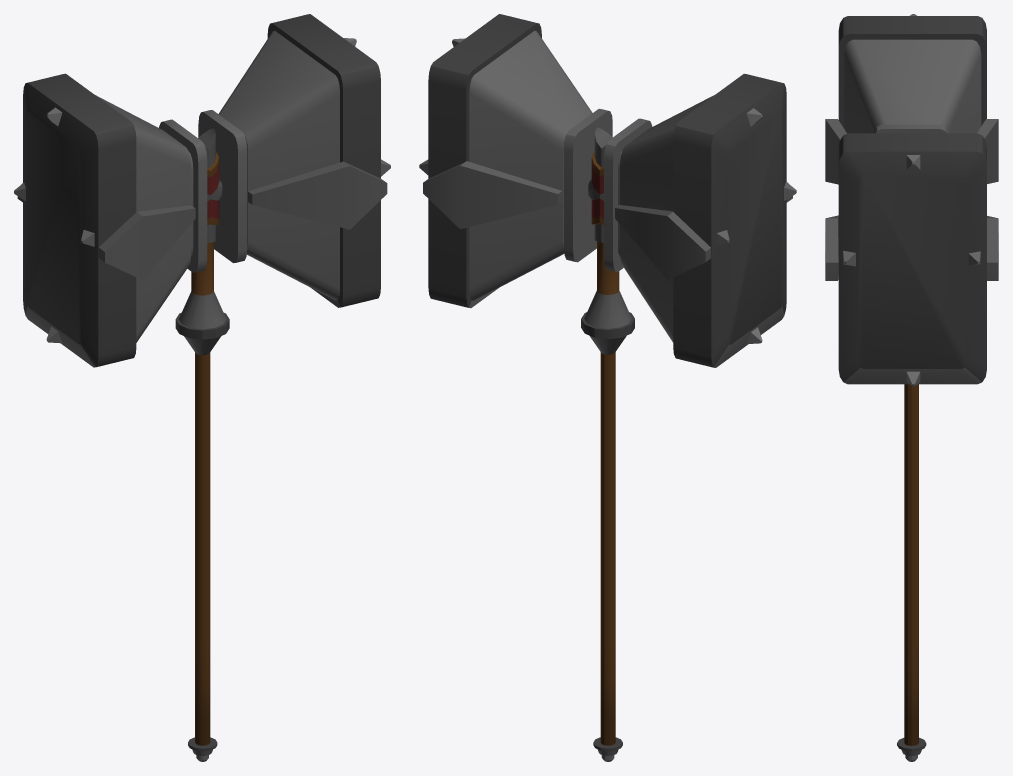
File: Senjata Tharok.fbx
3 views of the same model, side by side, from view 1: azimuth 30°, elevation 25°; view 2: azimuth 150°, elevation 25°; view 3: azimuth 270°, elevation 25° (orthographic).
Visible parts, largest first — view 1: Senjata Palu; view 2: Senjata Palu; view 3: Senjata Palu.
Part boxes in pixels (x1,y1,x2,y2): Senjata Palu: (14, 14, 390, 761); Senjata Palu: (419, 14, 796, 761); Senjata Palu: (825, 14, 998, 761).
Bounding box in the file's own units: 402 × 853 × 198.
